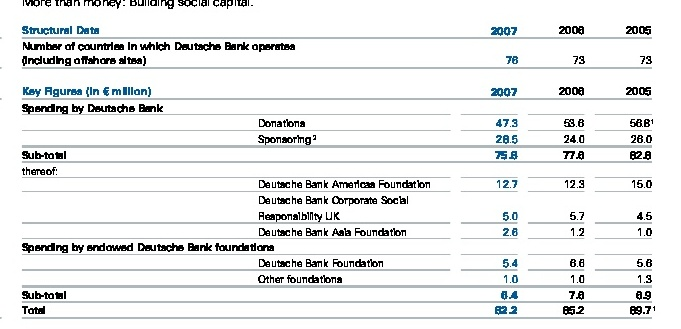table: (0, 0, 681, 329)
